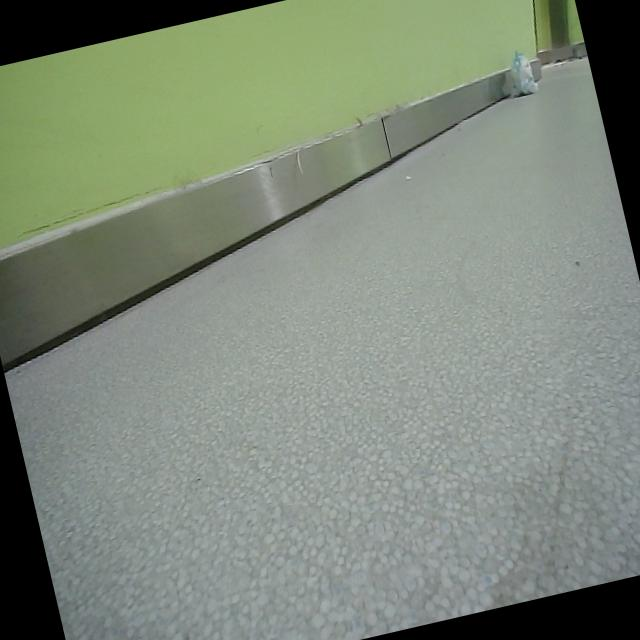xiaoba: (499, 42, 544, 106)
